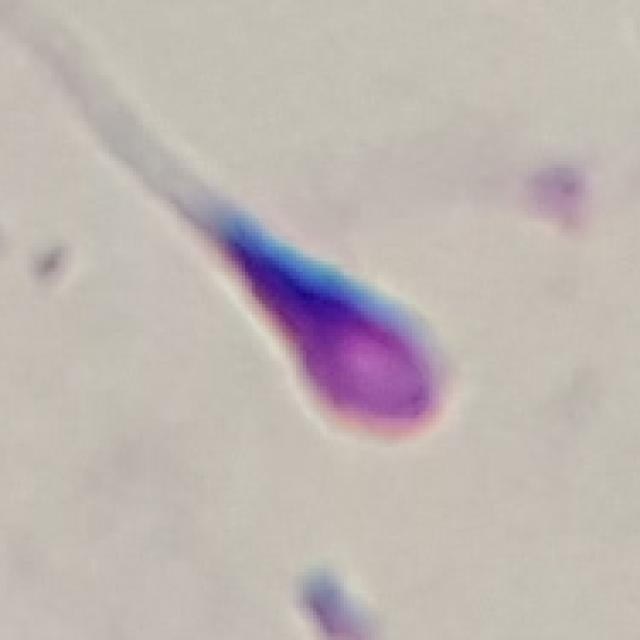abnormal sperm: (101, 60, 516, 470)
